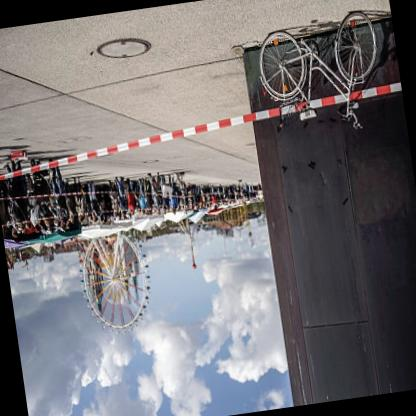manholes: (84, 15, 160, 81)
